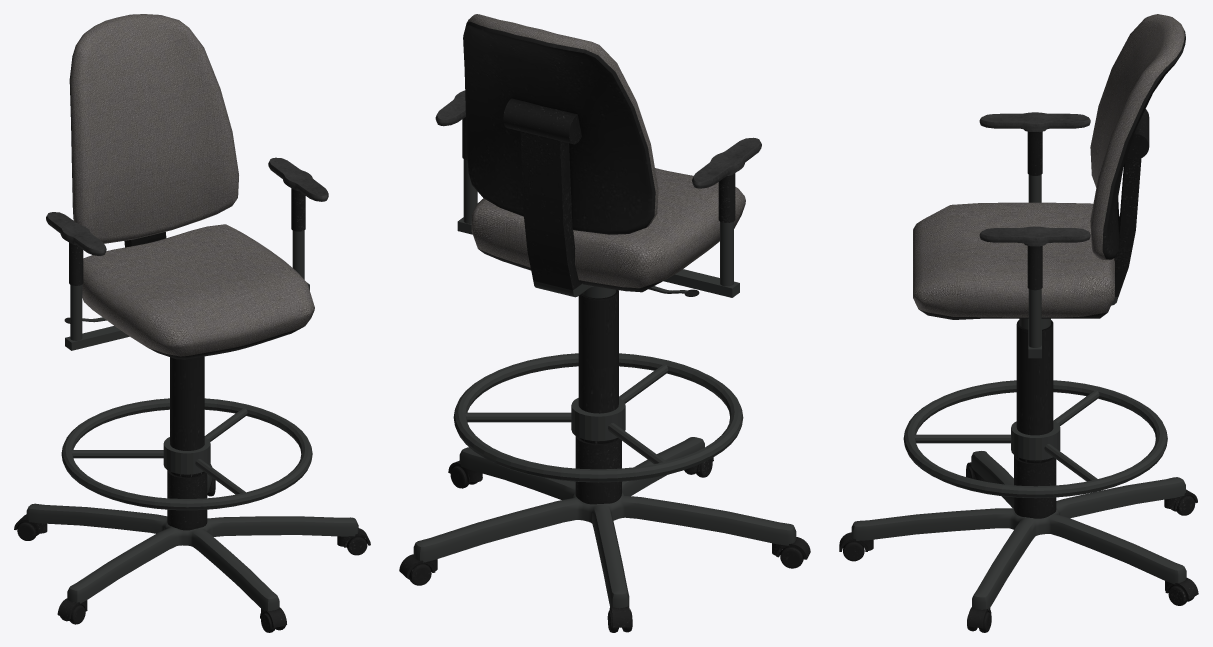
The model's file is draughtsman_chair.glb.
3 renders of one model, left to right at view 1: azimuth 30°, elevation 25°; view 2: azimuth 150°, elevation 25°; view 3: azimuth 270°, elevation 25°, orthographic. The views are drawn at different scales.
Visible parts, largest first — view 1: DraughtsmanChair, FootRing, FootRingCollar, FootRingSpoke1; view 2: DraughtsmanChair, FootRing, FootRingCollar, FootRingSpoke0, FootRingSpoke1; view 3: DraughtsmanChair, FootRing, FootRingCollar, FootRingSpoke2, FootRingSpoke0.
Part boxes in pixels (x1,y1,x2,y2): DraughtsmanChair: (14,14,370,632); FootRing: (61,398,312,510); FootRingCollar: (163,437,210,474); FootRingSpoke1: (71,450,163,458); DraughtsmanChair: (399,14,810,632); FootRing: (453,353,743,482); FootRingCollar: (571,398,625,441); FootRingSpoke0: (464,412,571,422); FootRingSpoke1: (608,423,666,463); DraughtsmanChair: (839,14,1198,632); FootRing: (903,380,1167,498); FootRingCollar: (1011,420,1060,460); FootRingSpoke2: (913,434,1010,443); FootRingSpoke0: (1044,444,1097,481).
Bounding box in the file's own units: 0.688 × 1.06 × 0.655.
4 materials, 4 textured.
